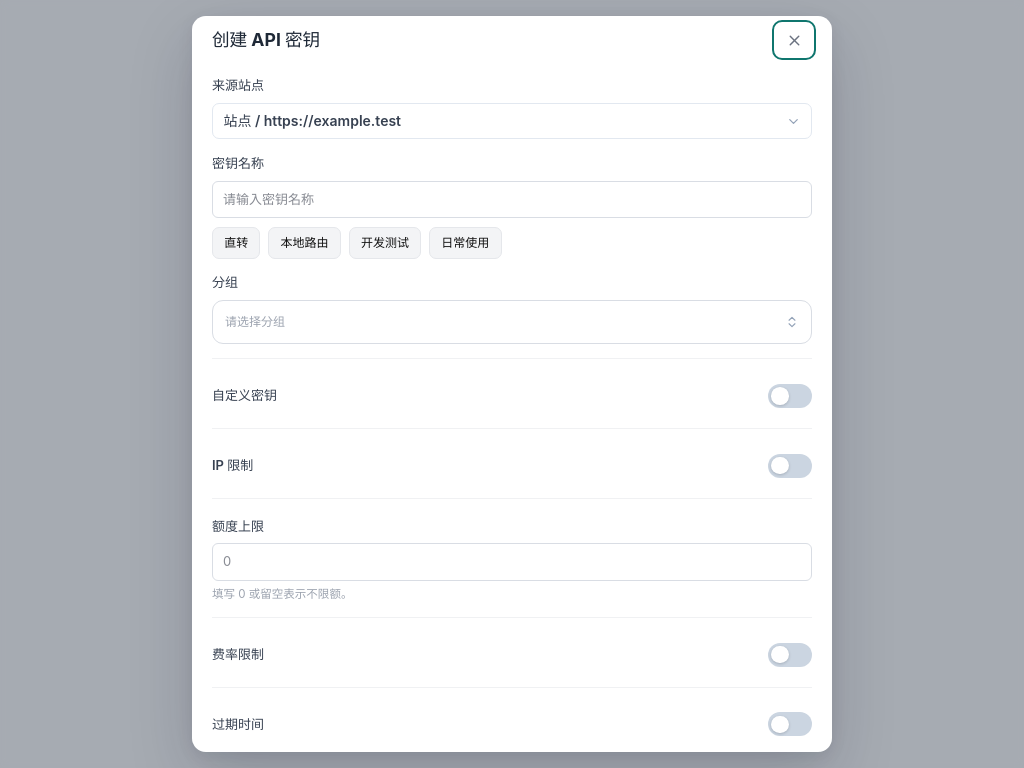
ApiKeyEditor › fills the key name from a preset
The image size is (1024, 768).
Click the button "直转": coordinates (236, 243) top-left (212, 227), bottom-right (260, 259)
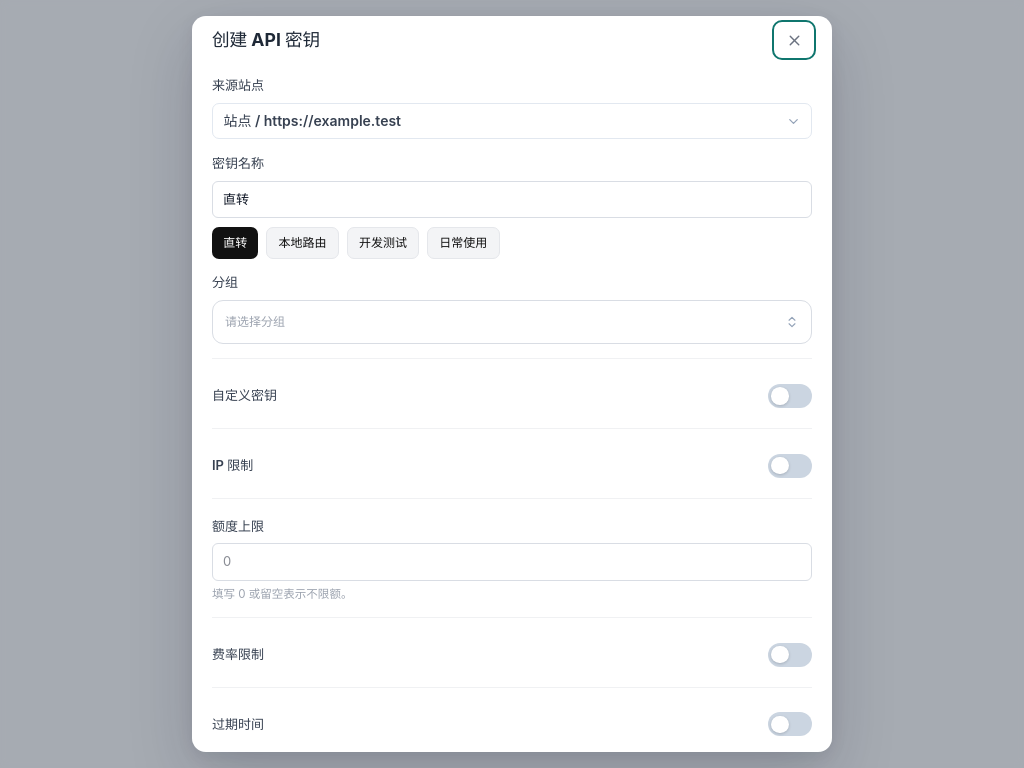
Now the field labelled "密钥名称" holds "直转", box top-left (212, 181), bottom-right (812, 218)
